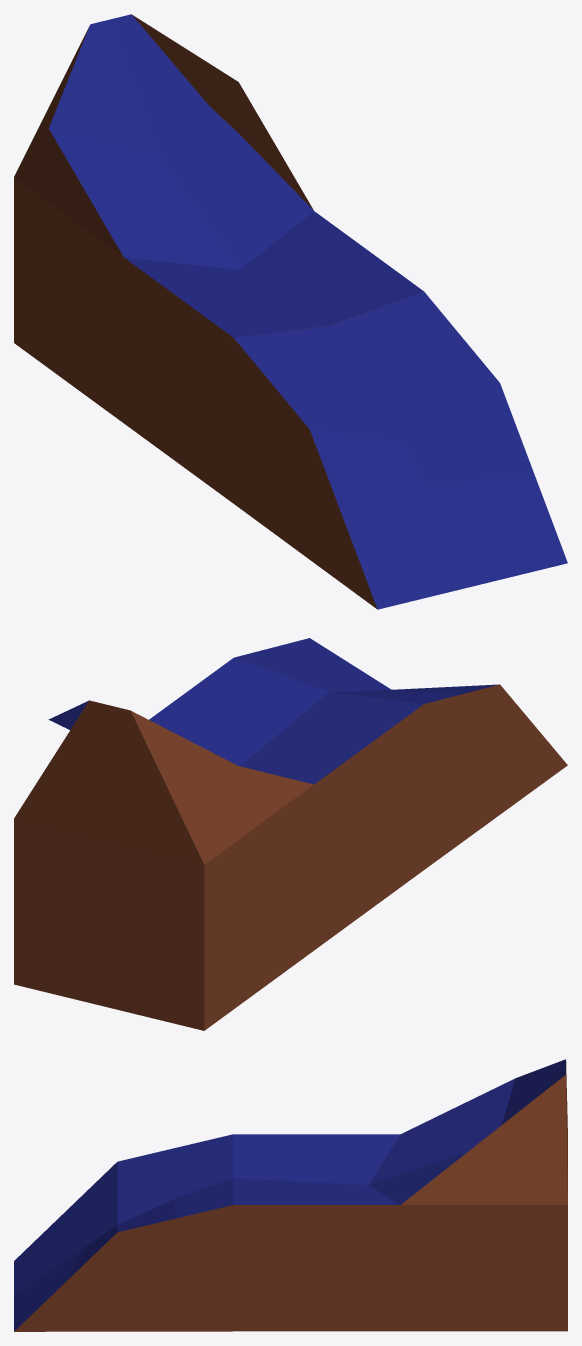
The model's file is memplayerA(2).fbx.
3 views of the same model, one above another, from view 1: azimuth 30°, elevation 25°; view 2: azimuth 150°, elevation 25°; view 3: azimuth 270°, elevation 25° (orthographic). The views are drawn at different scales.
Parts seen in each view (by area): view 1: Cube; view 2: Cube; view 3: Cube.
Part boxes in pixels (x1=…): Cube: x1=14, y1=14, x2=567, y2=609; Cube: x1=14, y1=638, x2=567, y2=1030; Cube: x1=14, y1=1059, x2=567, y2=1331.
Bounding box in the file's own units: 240 × 364 × 794.
